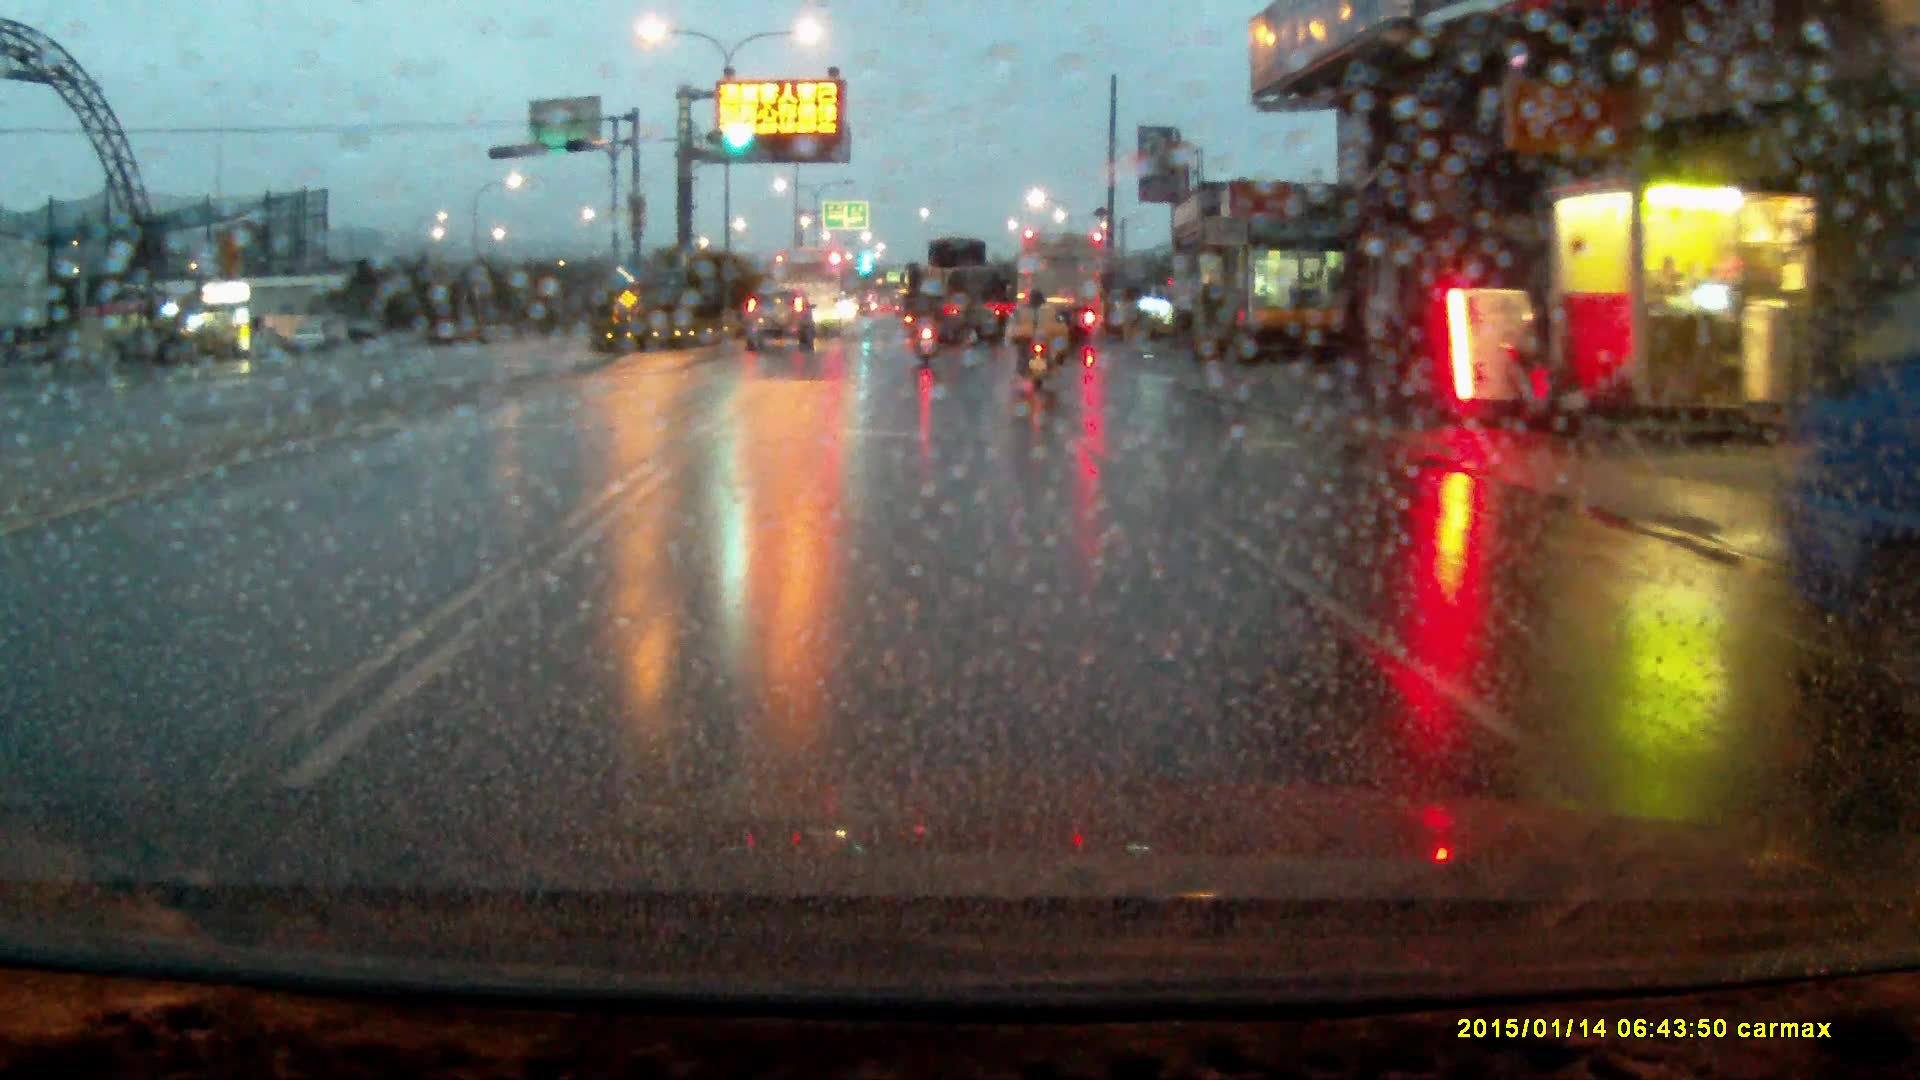rider: (1018, 287, 1059, 396), (910, 283, 942, 364)
vehicle: (915, 239, 1017, 347), (1020, 234, 1106, 349), (772, 248, 846, 334), (745, 282, 815, 347)
